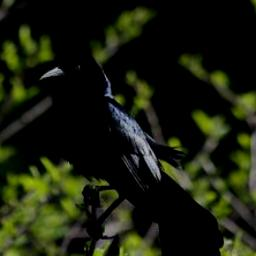Crow: (37, 45, 223, 256)
